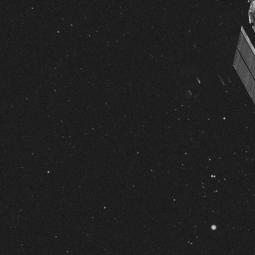soho: (166, 3, 255, 99)
